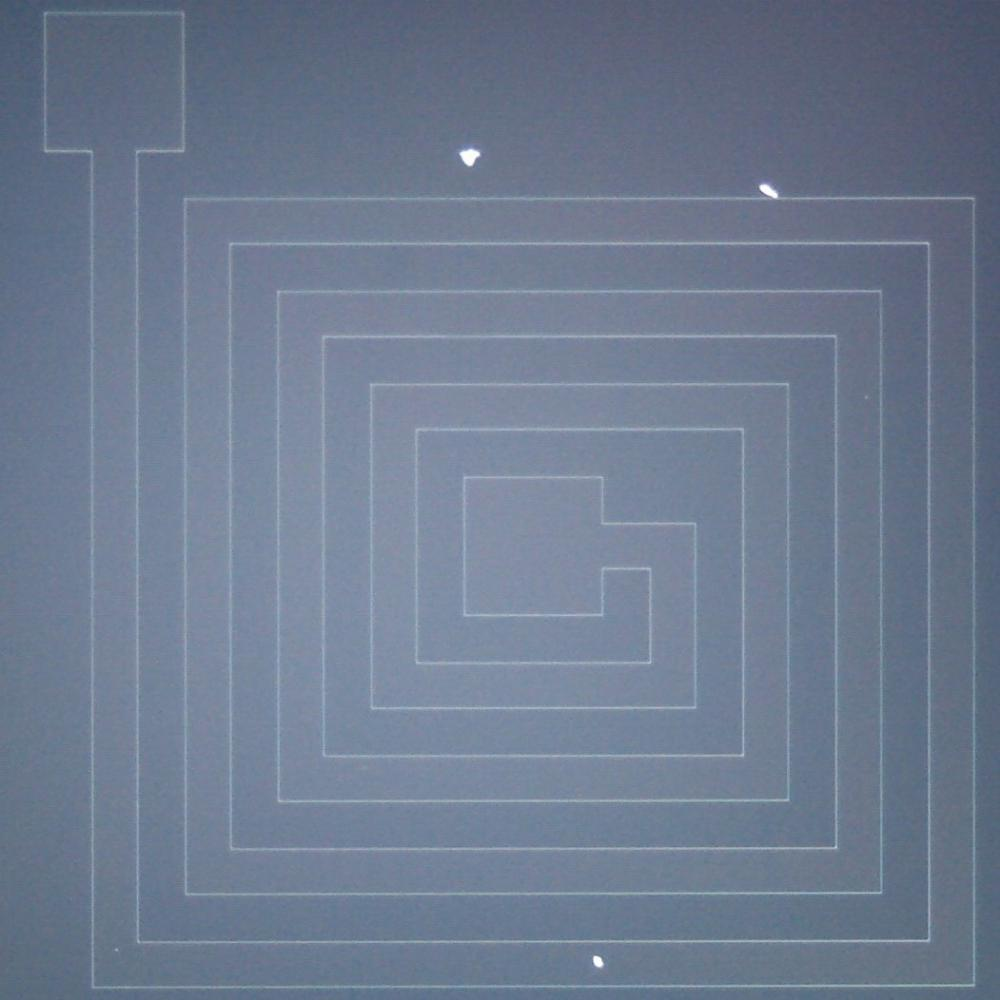Bdot: (457, 146, 480, 168), (758, 178, 778, 198)
dot: (592, 955, 604, 968), (114, 948, 119, 952)
